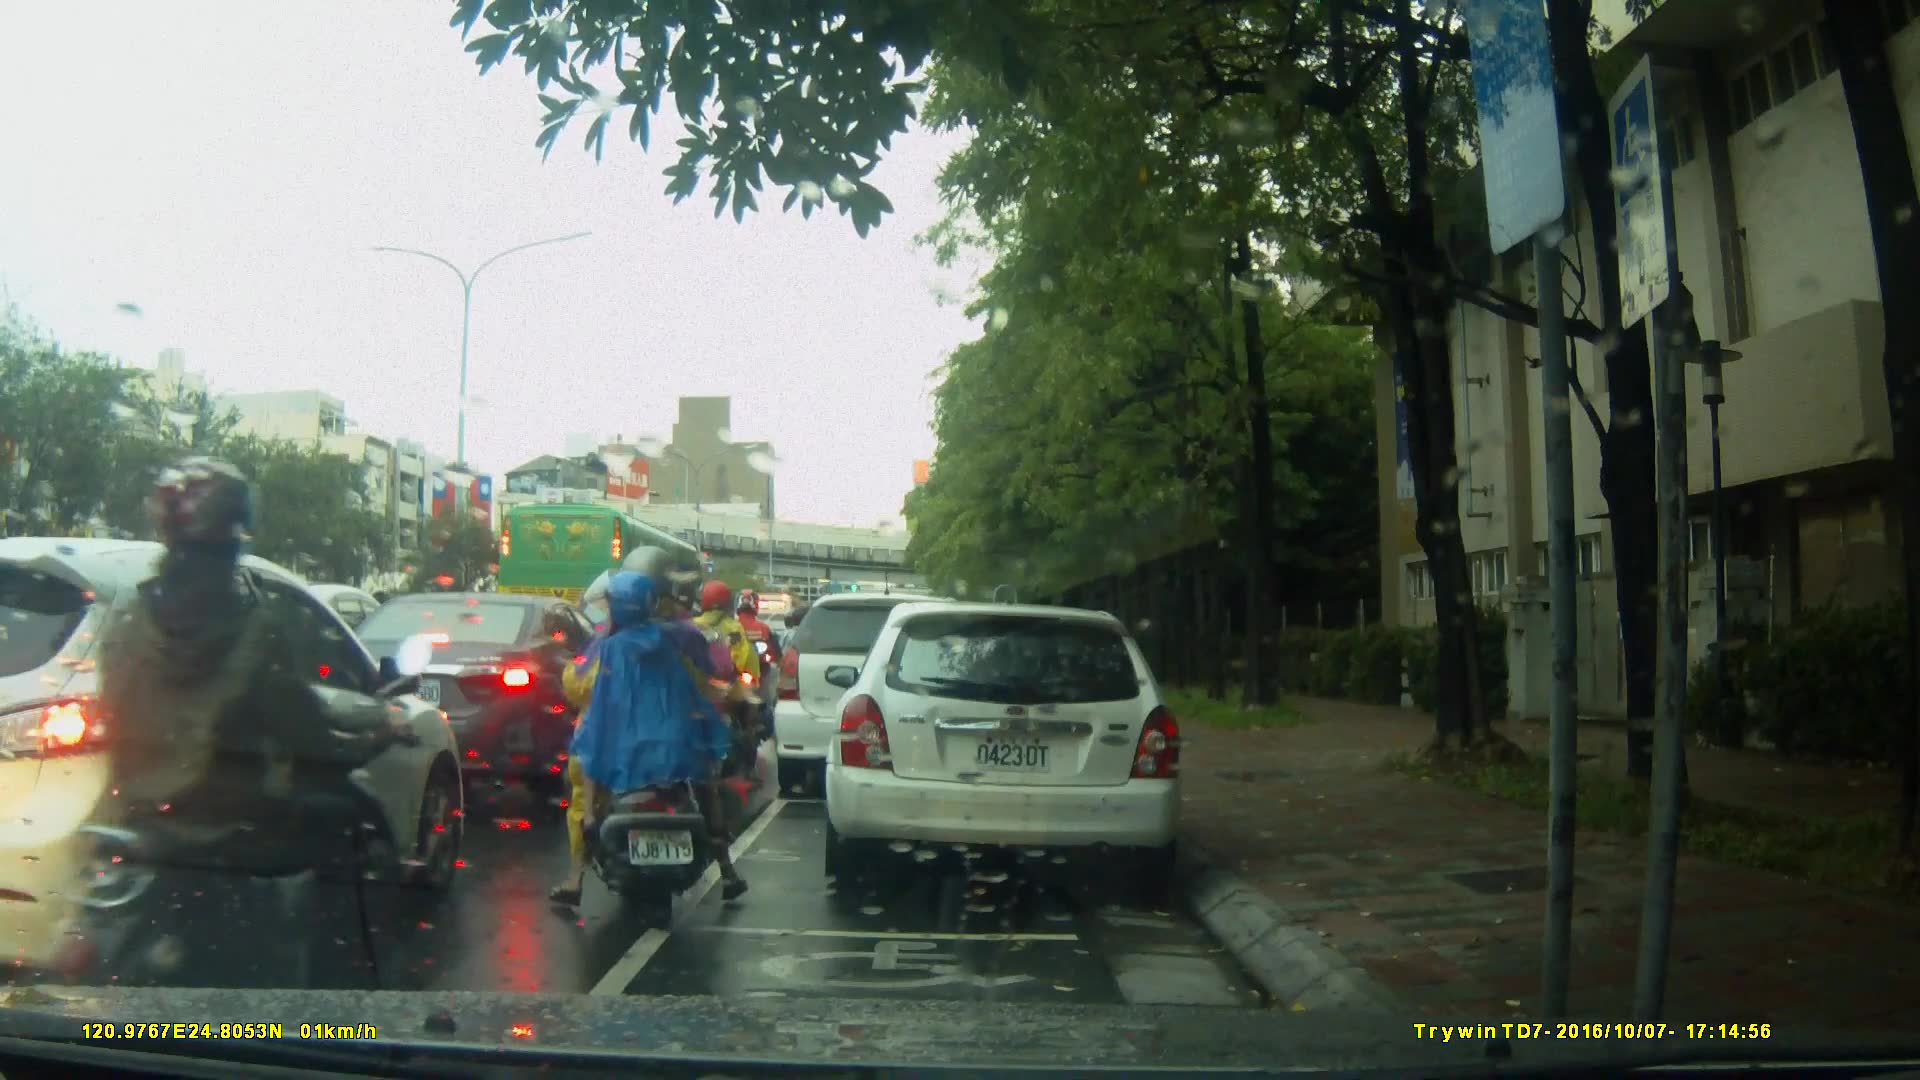rider: (48, 451, 420, 1080), (544, 543, 754, 911), (684, 578, 766, 799), (726, 592, 781, 746), (782, 598, 825, 720)
vehicle: (5, 535, 469, 988), (831, 592, 1196, 897), (314, 589, 629, 776), (770, 590, 999, 804), (499, 503, 712, 636)
